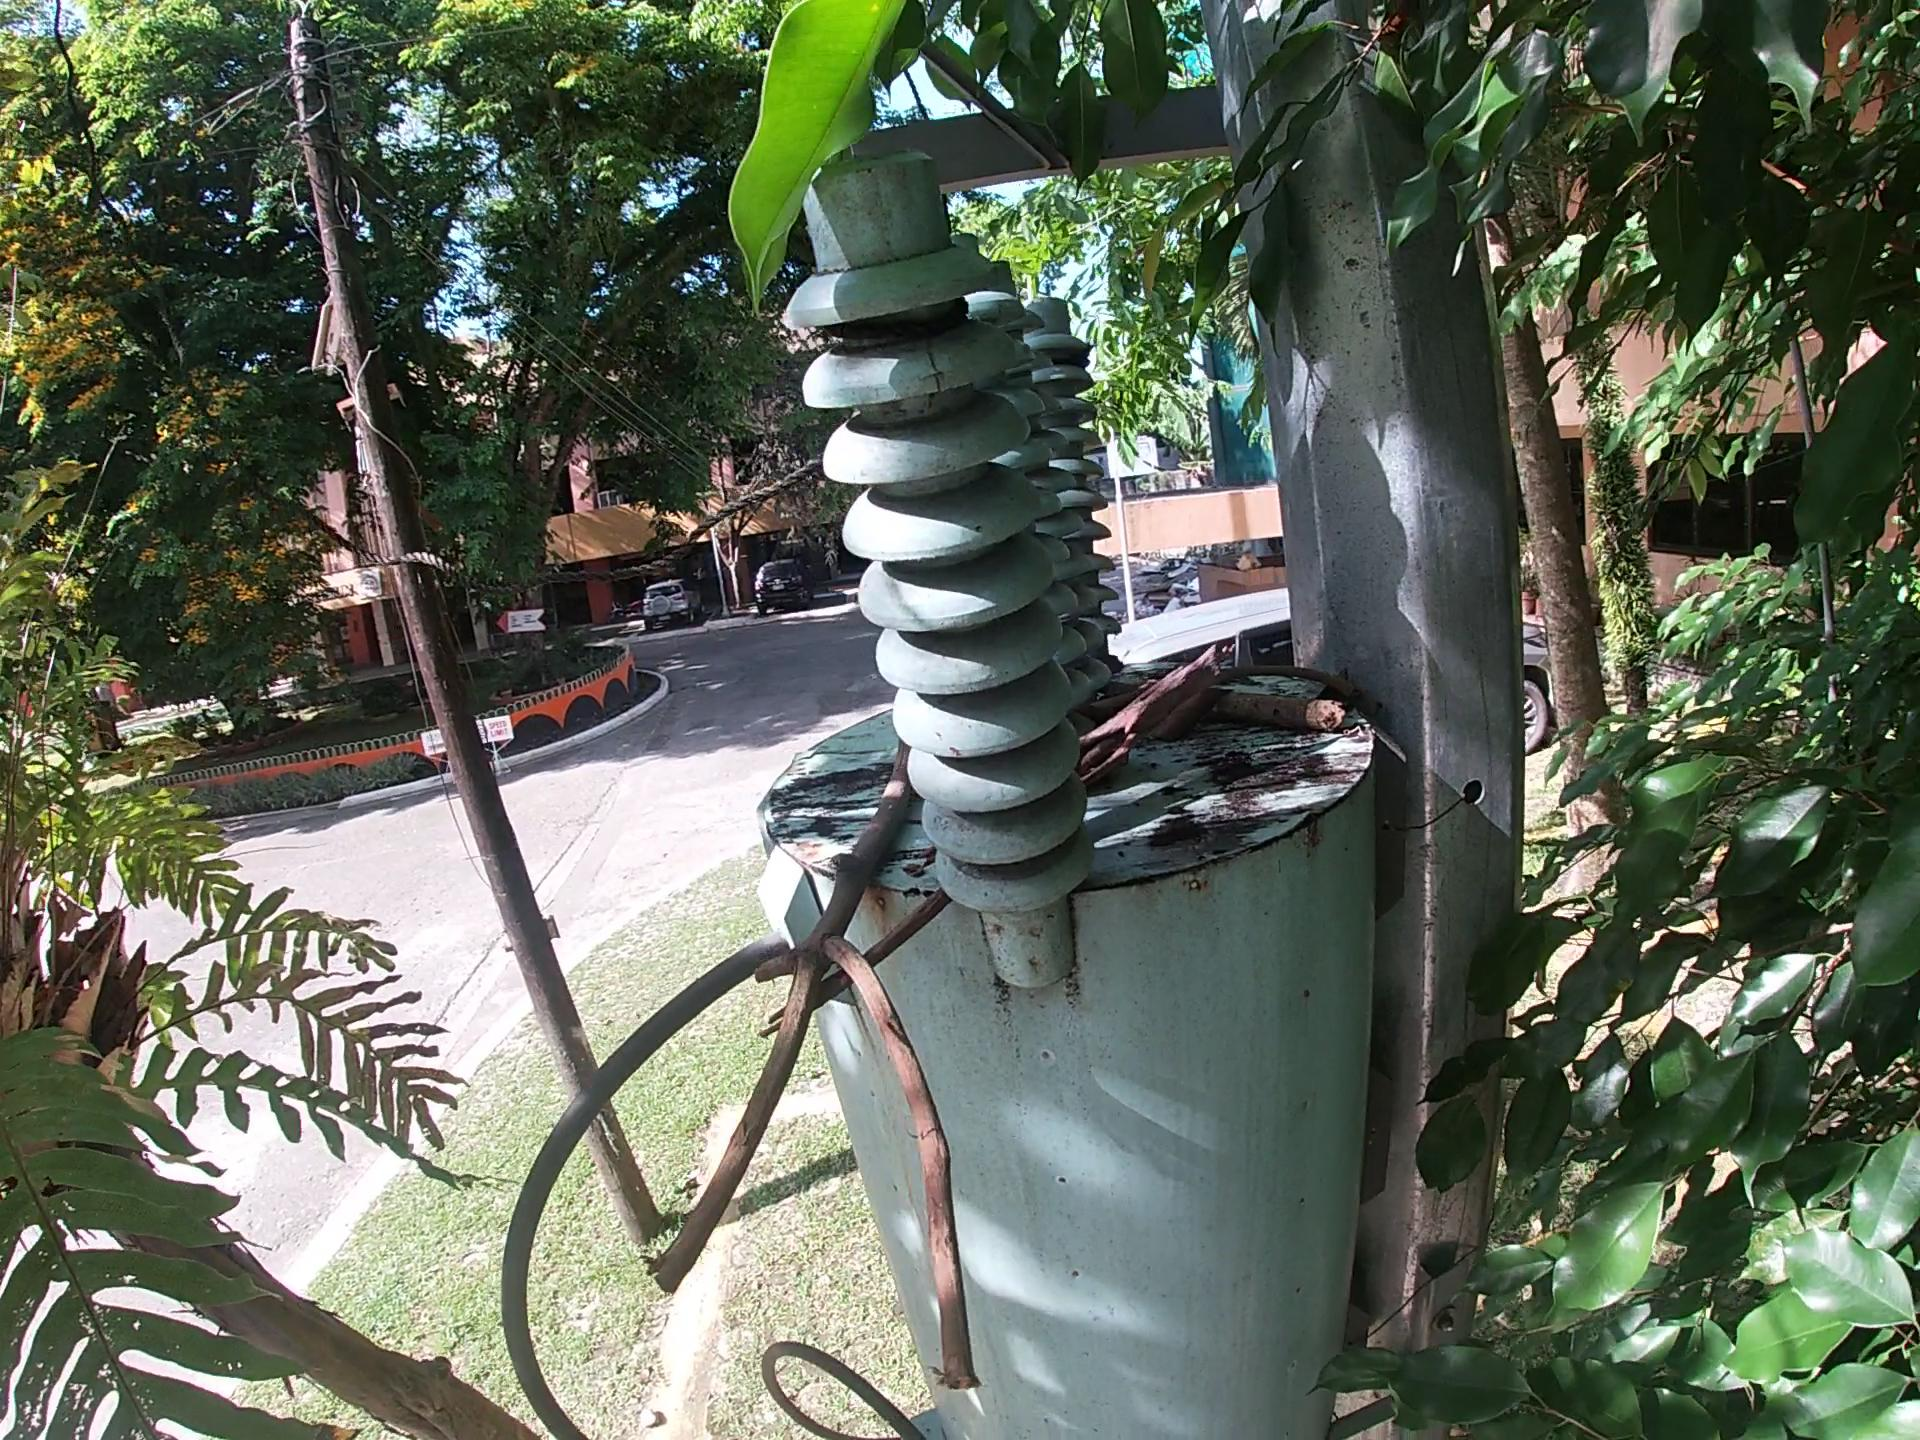leaf: (1146, 684, 1234, 747), (1312, 664, 1355, 711)
tree branch: (627, 737, 996, 1410), (754, 882, 957, 1048), (1070, 641, 1231, 793), (1096, 676, 1352, 737), (1214, 659, 1376, 709)
